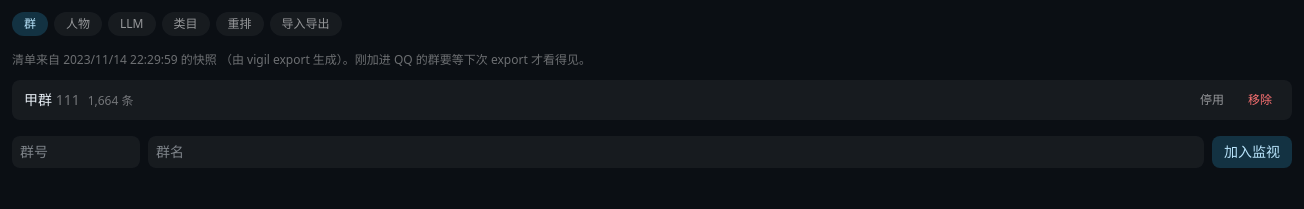
加群之后必须说清代价：下次 export 会拉全量历史
Expected: the text "甲群" is shown, [24,90,52,109]
Type "444" into the field with placeholder "群号" at (76, 152), box [12,136,140,168]
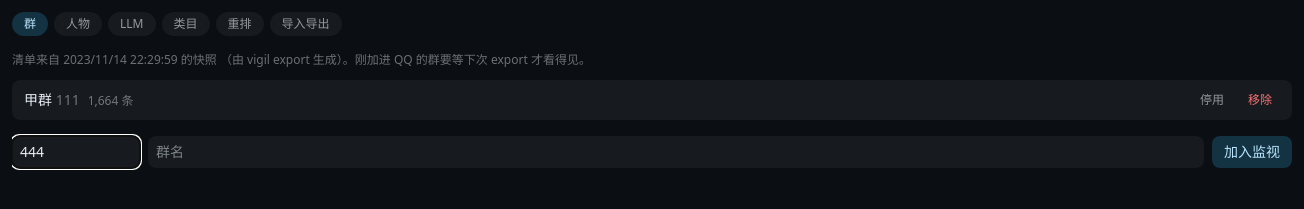
Type "丁群" into the field with placeholder "群名" at (676, 152), box [148,136,1204,168]
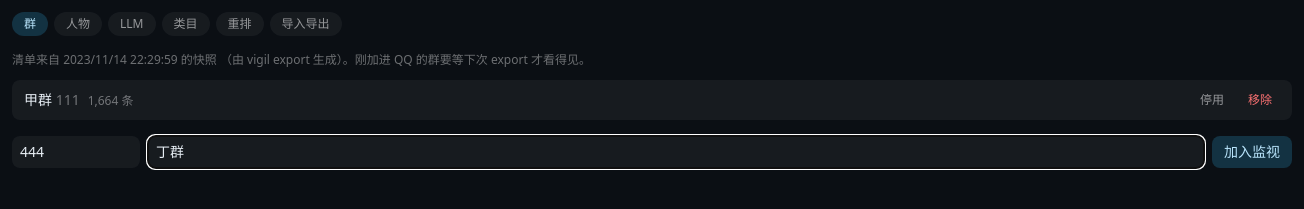
Click the button "加入监视" at (1252, 152), box [1212,136,1292,168]
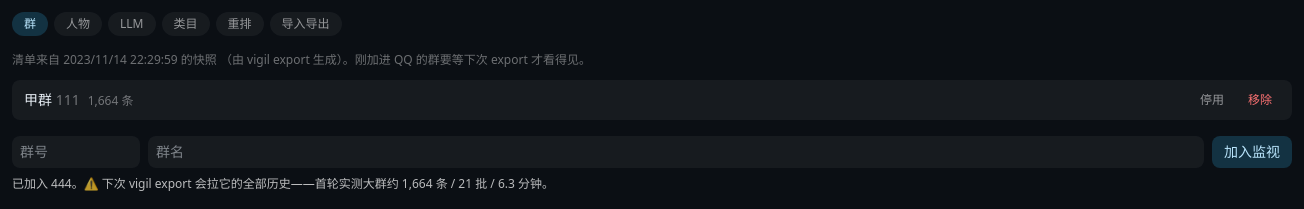
Result: the text "全部历史" shows "1,664" at [12,175,554,192]
Result: the text "全部历史" shows "6.3 分钟" at [12,175,554,192]
